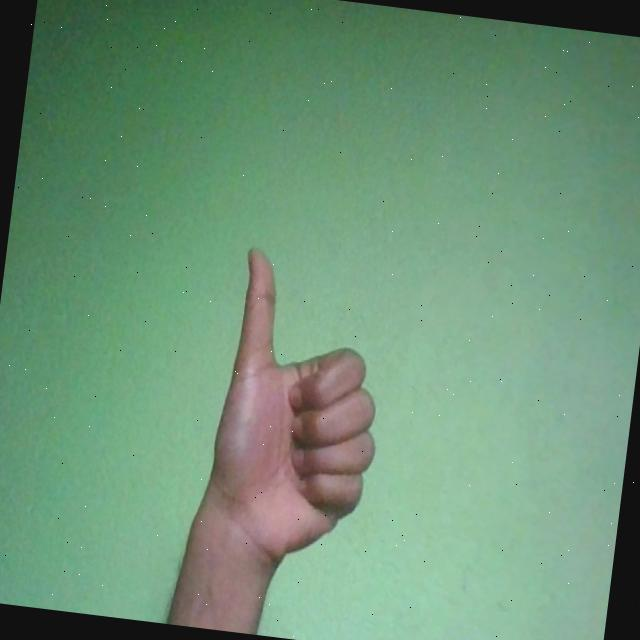Good Job: (199, 245, 397, 579)
